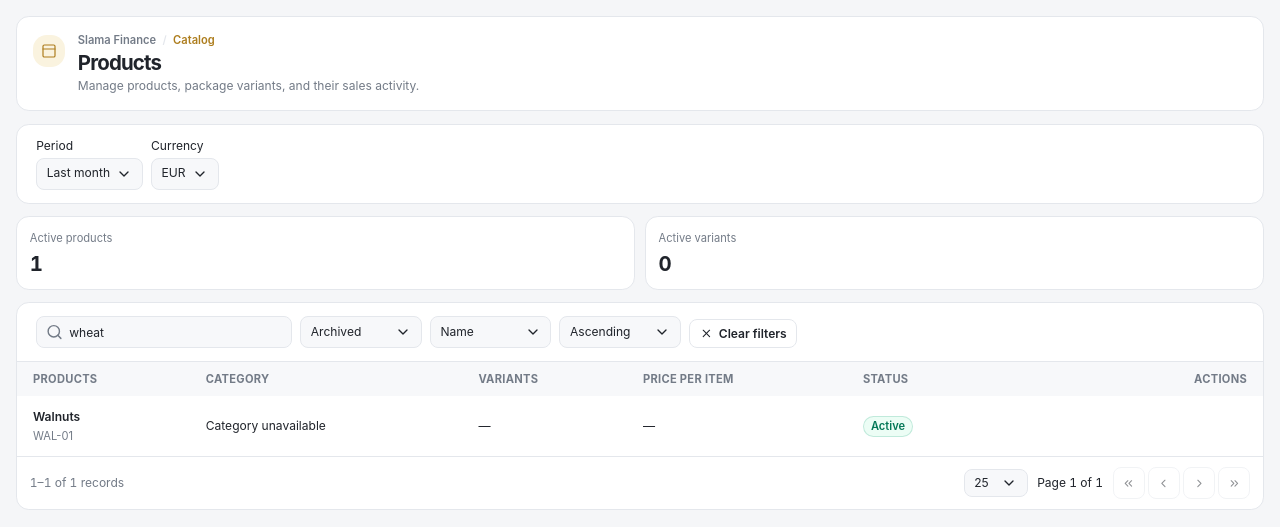
Scenario: catalog insights presentation › clears table filters without discarding the reporting context
Click the button "Clear filters".
click(743, 334)  # box [689,319,797,348]
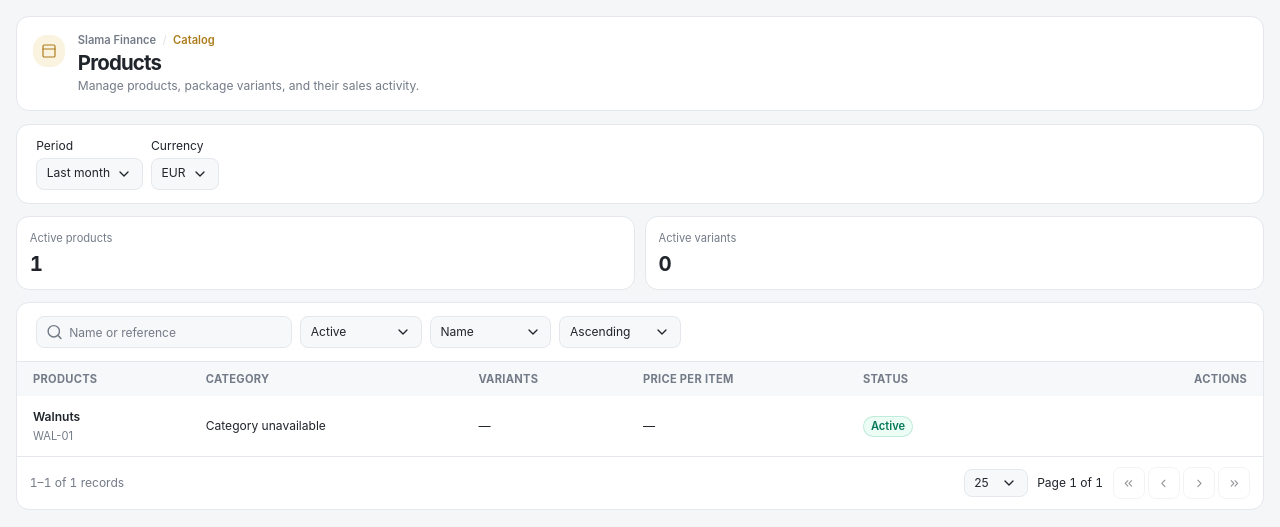
expect the button "Clear filters" is gone: met
